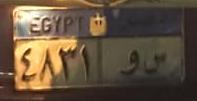1: (79, 42, 91, 85)
3: (60, 46, 76, 81)
4: (21, 47, 35, 82)
8: (38, 48, 53, 81)
seen: (142, 50, 168, 75)
waw: (121, 50, 141, 76)
